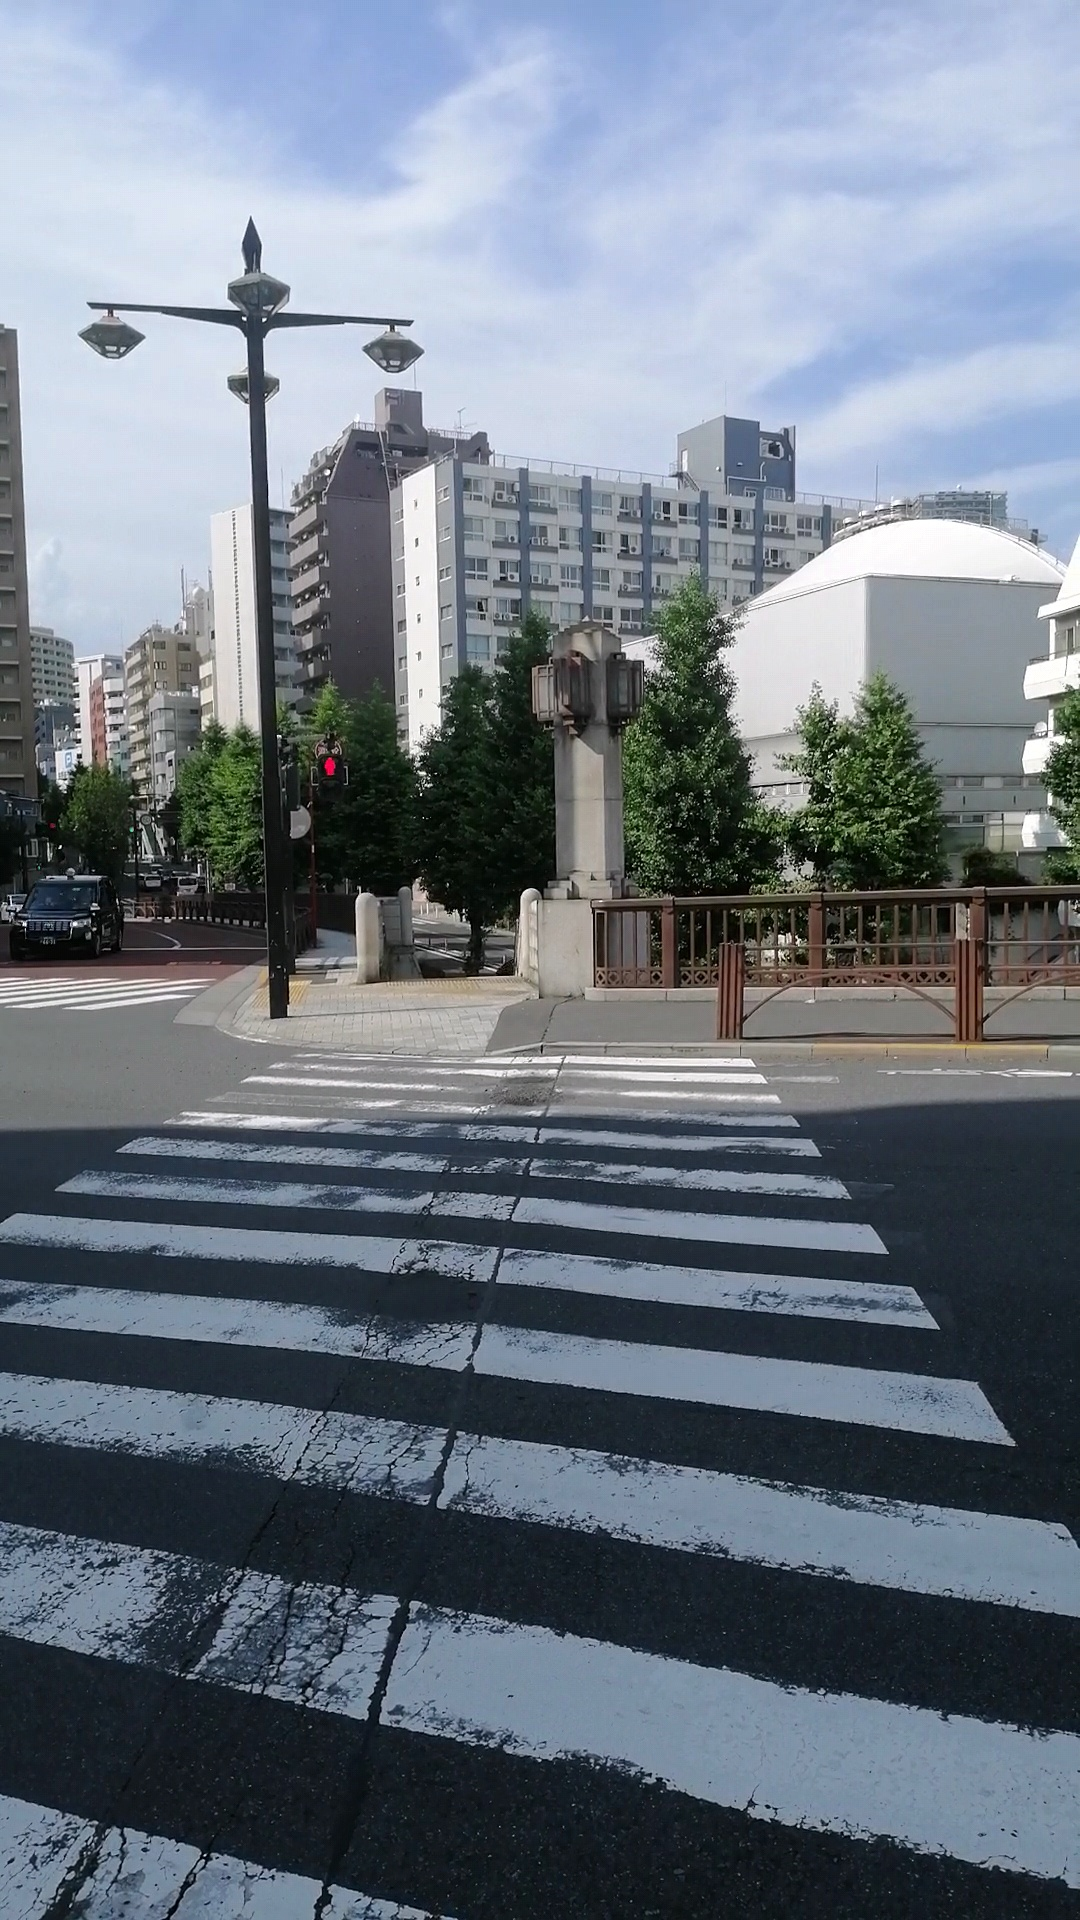red: (316, 756, 343, 804)
